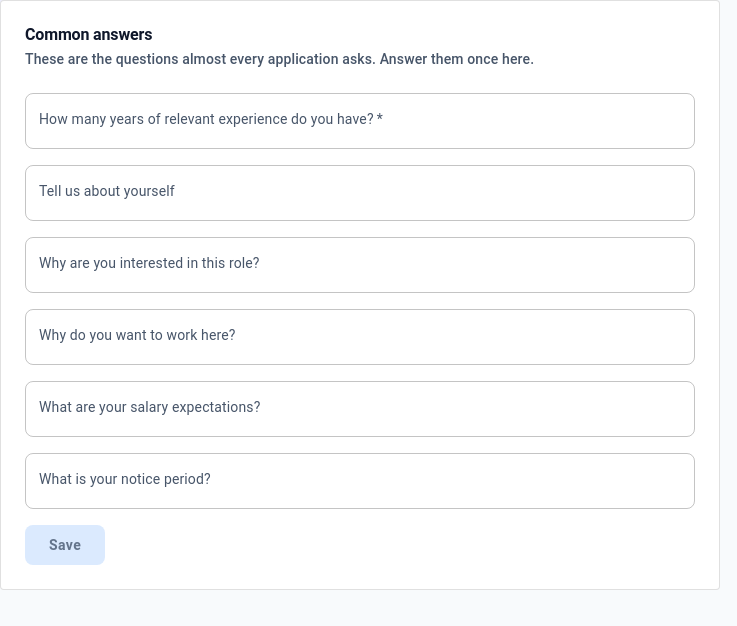
Test: BaselineAnswersSection AA-025 › validates numeric years of experience
Type "999" into the number field labelled "How many years of relevant experience do you have? *" at (360, 121), box [25, 93, 695, 149]
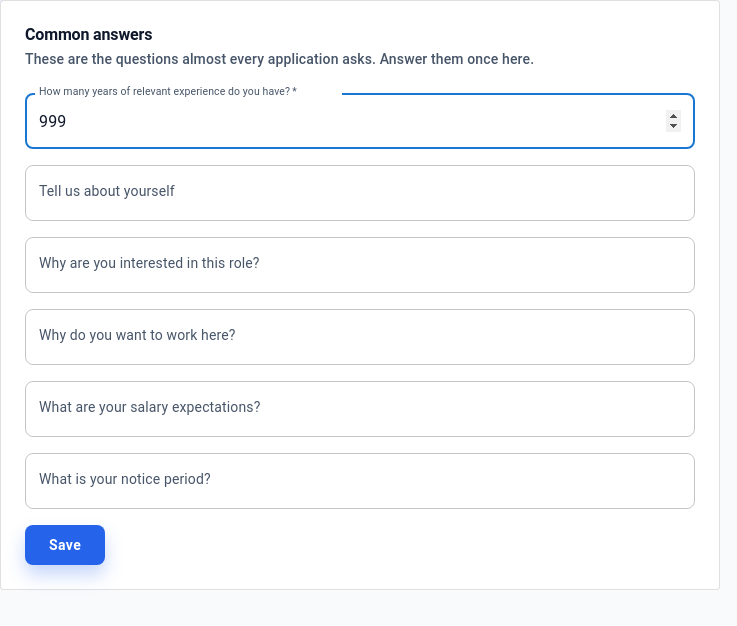
expect the button "Save" is enabled: met
Click the button "Save" at (65, 545), box [25, 525, 105, 565]
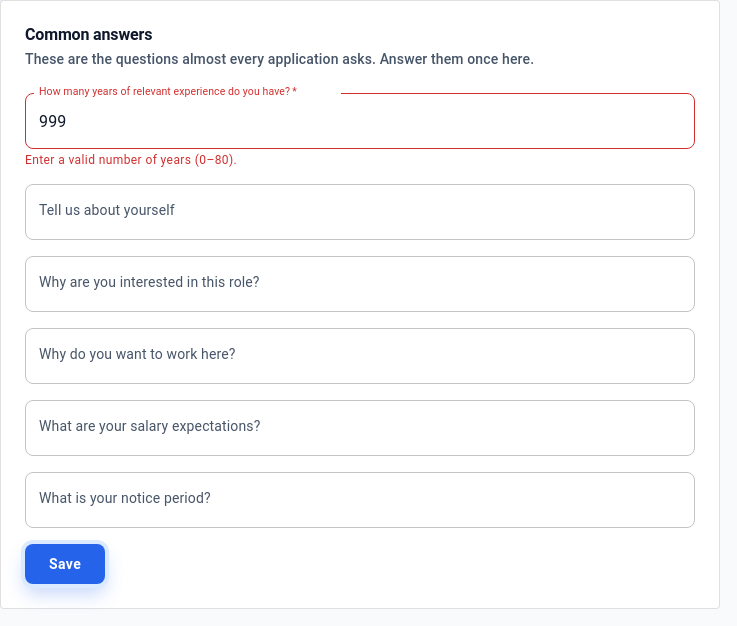
expect the text "Enter a valid number of years (0–80)." is shown: met, box [25, 153, 237, 167]
